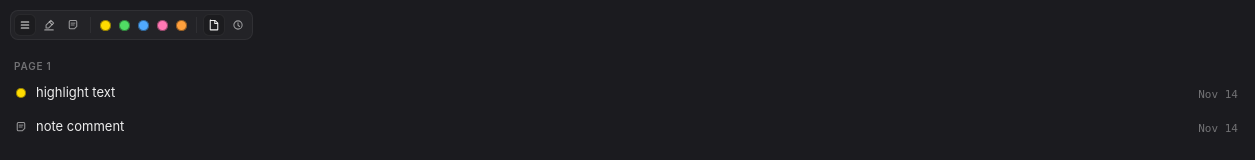
Scenario: MarksTabContent › filters to highlights only when highlight button is pressed
Click the button named "Highlights".
click(49, 25)  # box 38,14 -> 60,36
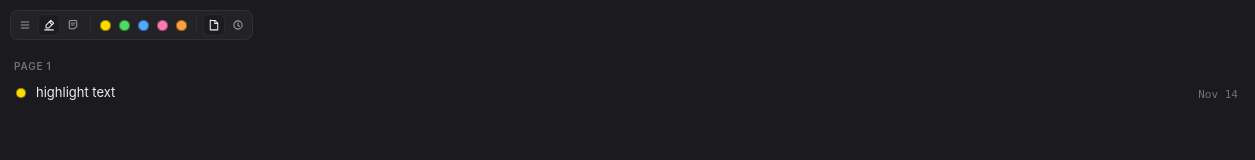
Expected: the text "highlight text" is shown, 36,84 -> 115,100
Expected: the button "note comment" is gone
